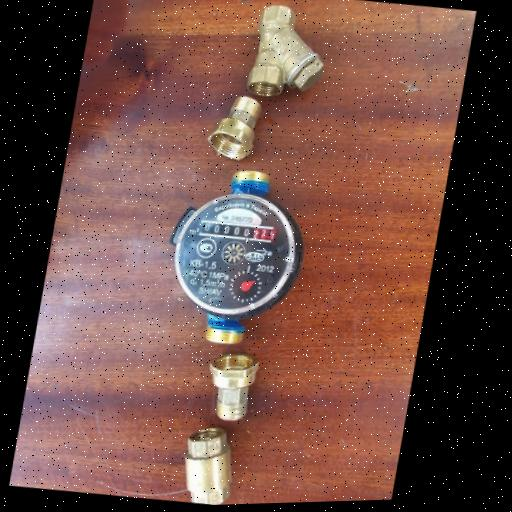0: (240, 226, 253, 239), (221, 224, 234, 236), (211, 223, 224, 234), (231, 224, 242, 237), (201, 222, 212, 234)
2: (252, 227, 261, 240)
5: (267, 228, 277, 242)
7: (260, 228, 269, 241)
border_water_meter_number: (199, 218, 280, 246)
